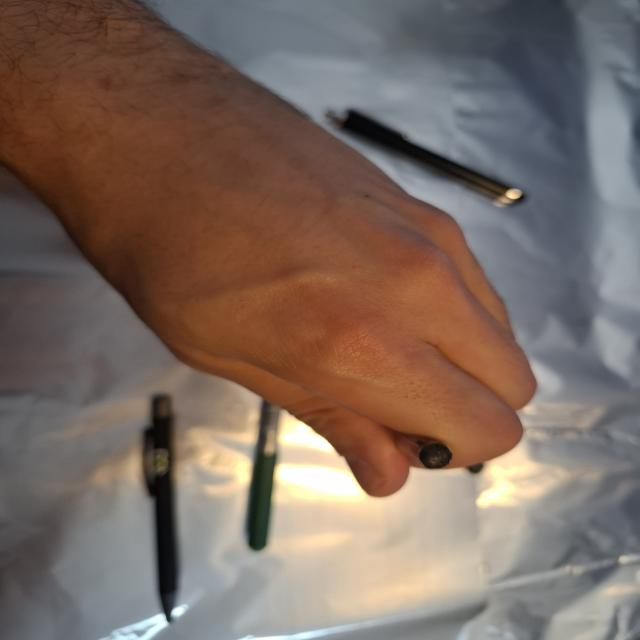glove_off: (20, 66, 541, 500)
